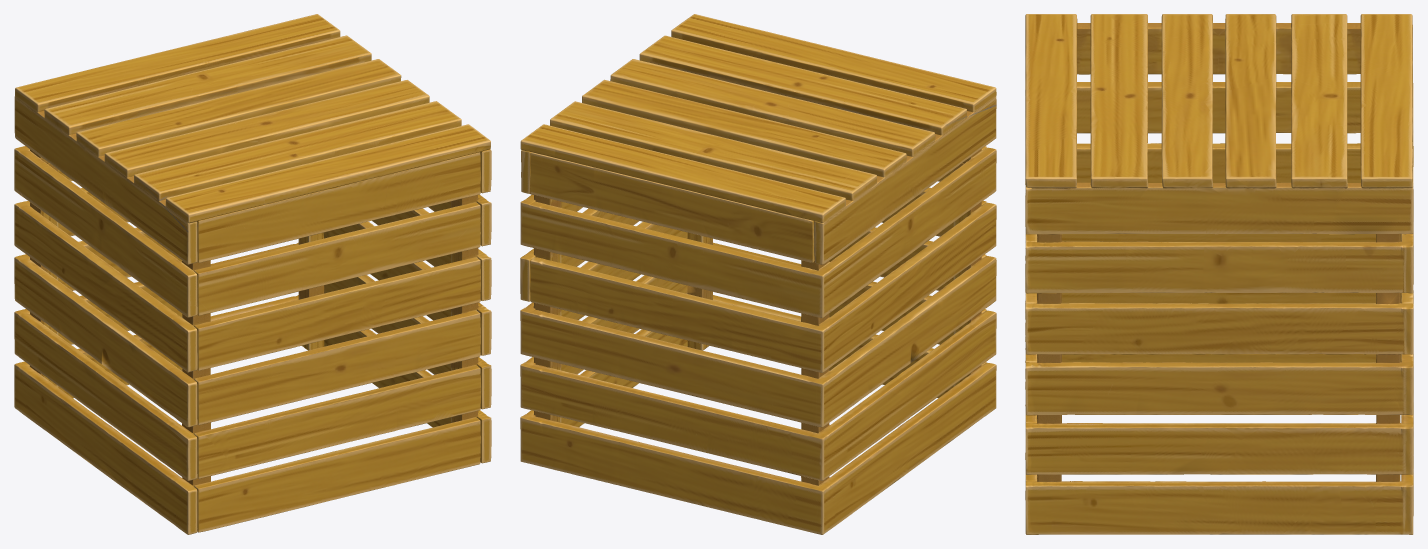
Rendered from SM_WoodenSlatCube.fbx.
3 views of the same model, side by side, from view 1: azimuth 30°, elevation 25°; view 2: azimuth 150°, elevation 25°; view 3: azimuth 270°, elevation 25° (orthographic). The views are drawn at different scales.
Parts seen in each view (by area): view 1: Mesh_0; view 2: Mesh_0; view 3: Mesh_0.
Boxes of the visible parts, x1,y1,x2,y2 form: Mesh_0: [14, 14, 491, 534]; Mesh_0: [520, 14, 996, 534]; Mesh_0: [1025, 14, 1413, 534].
Size of the model in its own units: 188 by 190 by 187.
Materials: 1 (1 with a texture image).
